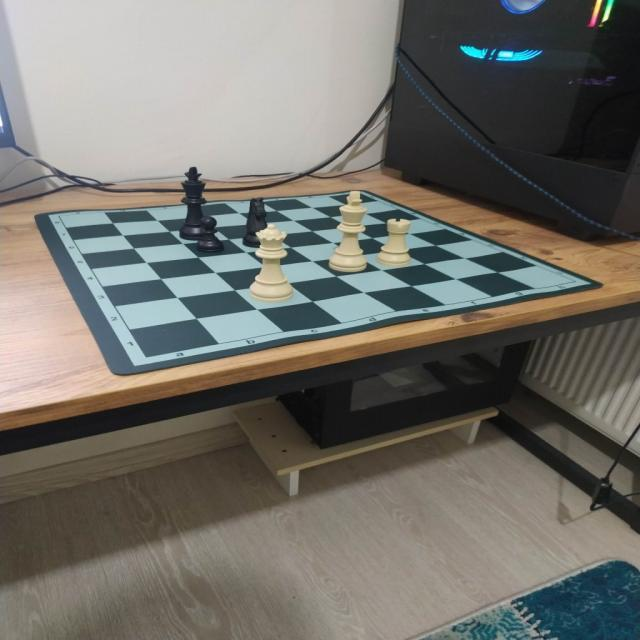chess-table-corners: (556, 274, 586, 292), (135, 350, 158, 364), (52, 210, 68, 222), (351, 188, 367, 196)
